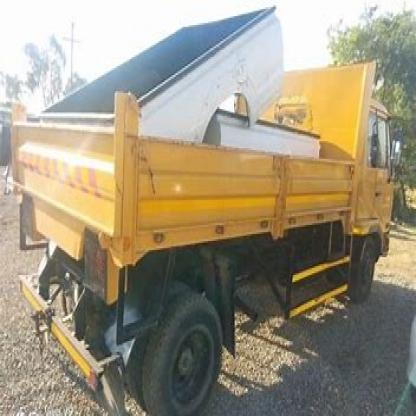dump_truck: (11, 11, 409, 414)
